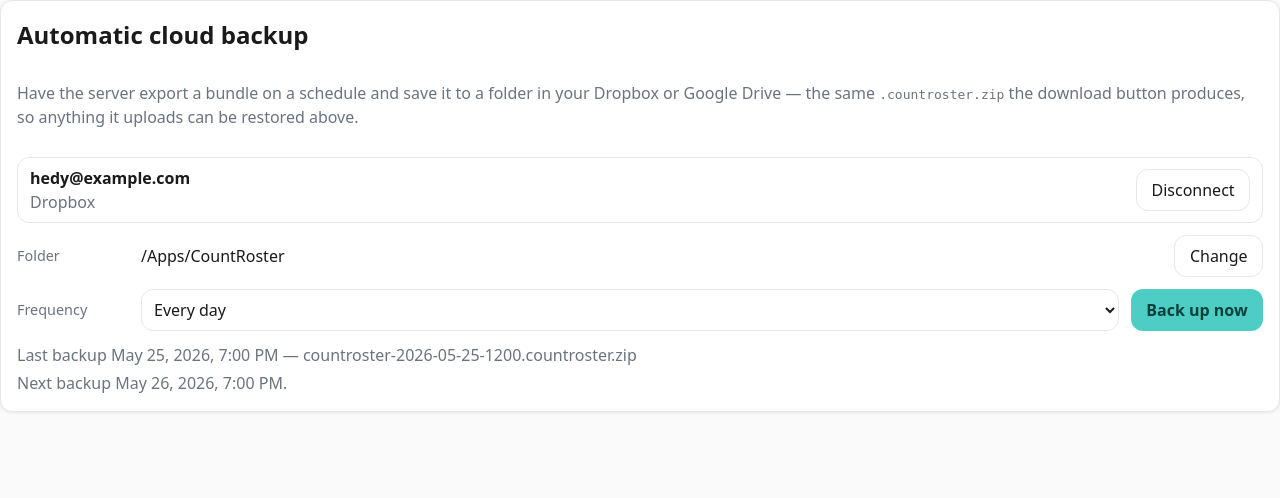
Scenario: CloudBackupSettings › surfaces a 502 from the provider
The image size is (1280, 498).
Step 1. Click the button "Back up now" → {"x": 1197, "y": 310}, box [1131,289,1263,331]
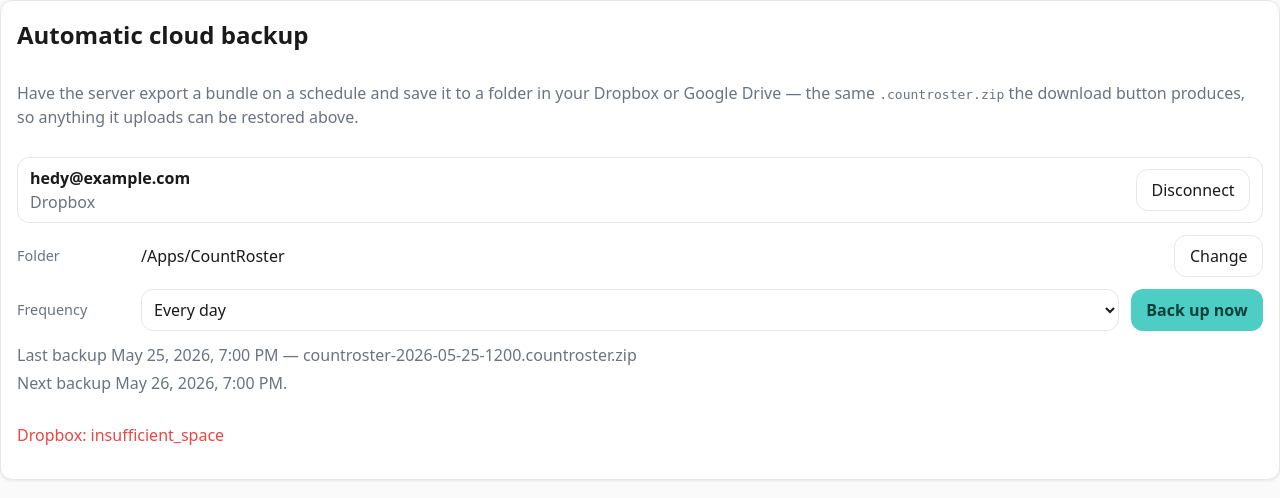
Result: the text "Dropbox: insufficient_space" is shown at [17,424,224,446]
